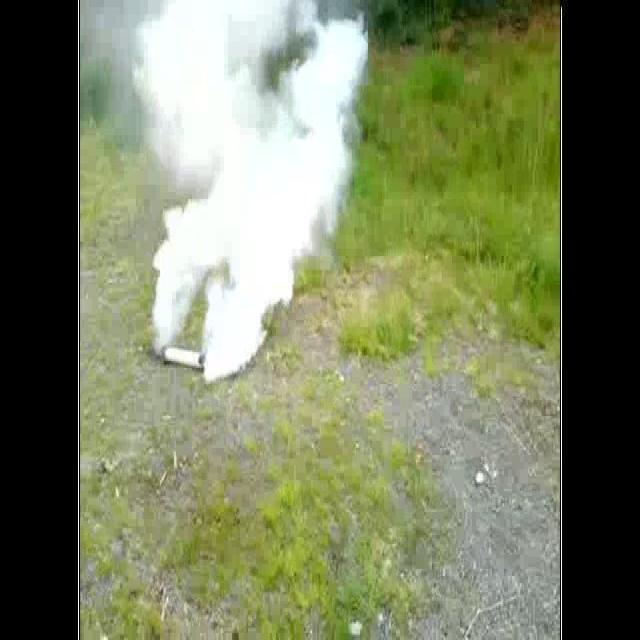Smoke: (77, 0, 377, 388)
